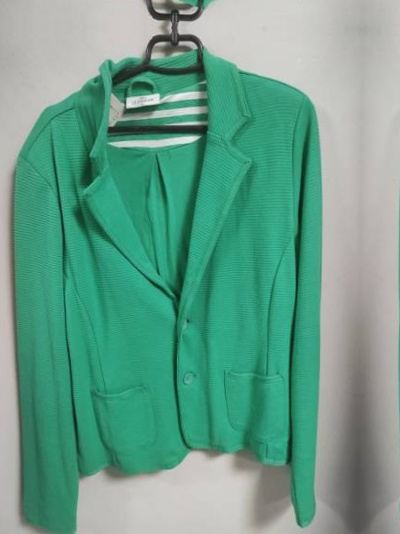Blazer: (9, 56, 342, 534), (379, 60, 400, 534), (385, 0, 400, 3)
